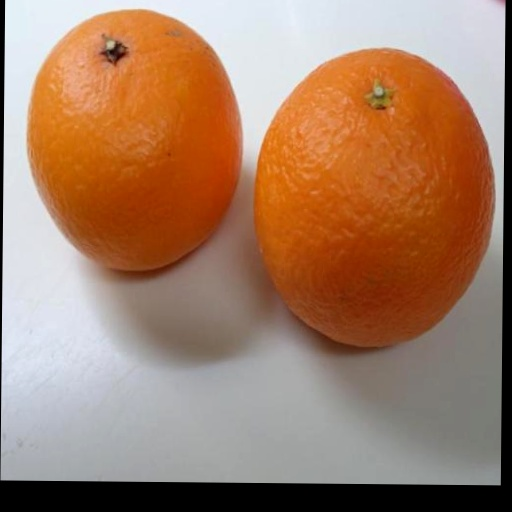fruit: (254, 50, 493, 346), (27, 10, 241, 269)
